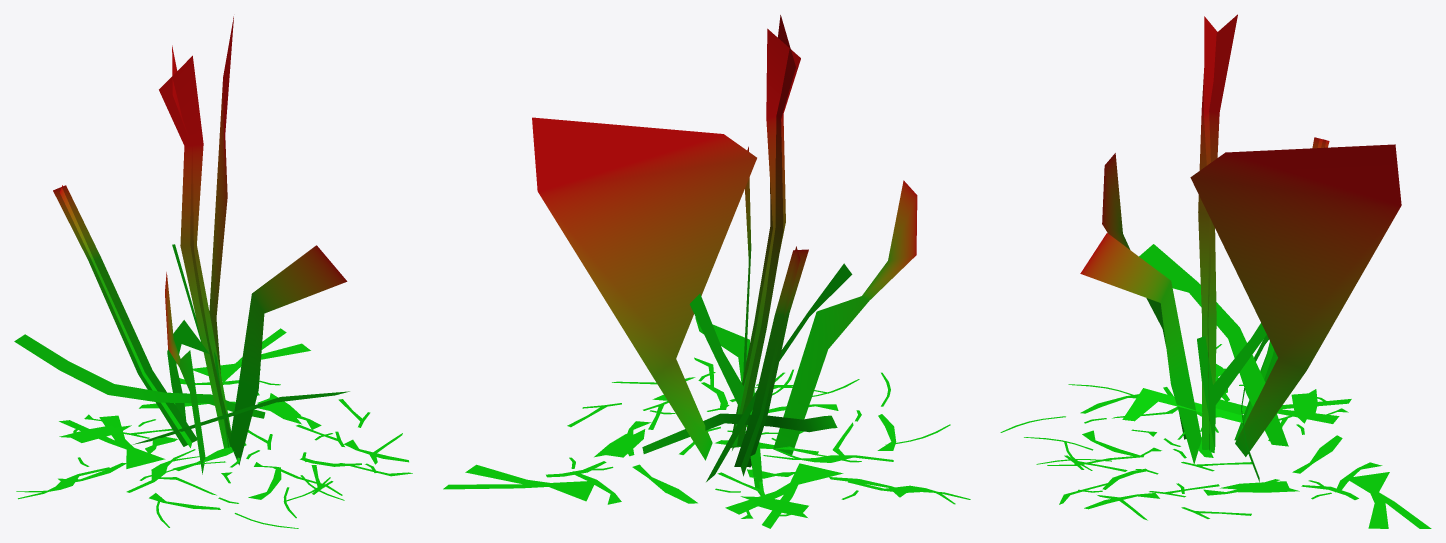
The model's file is Dead Shrubs_LOD1_Var1_vdknbbuha.fbx.
3 renders of one model, left to right at view 1: azimuth 30°, elevation 25°; view 2: azimuth 150°, elevation 25°; view 3: azimuth 270°, elevation 25°, orthographic. The views are drawn at different scales.
Parts seen in each view (by area): view 1: _3z84_Var1_LOD1; view 2: _3z84_Var1_LOD1; view 3: _3z84_Var1_LOD1.
Part boxes in pixels (left/top/right/bottom): _3z84_Var1_LOD1: left=14, top=16, right=412, bottom=528; _3z84_Var1_LOD1: left=443, top=15, right=970, bottom=528; _3z84_Var1_LOD1: left=1000, top=14, right=1431, bottom=528.
Size of the model in its own units: 30.63 by 32.66 by 29.85.
